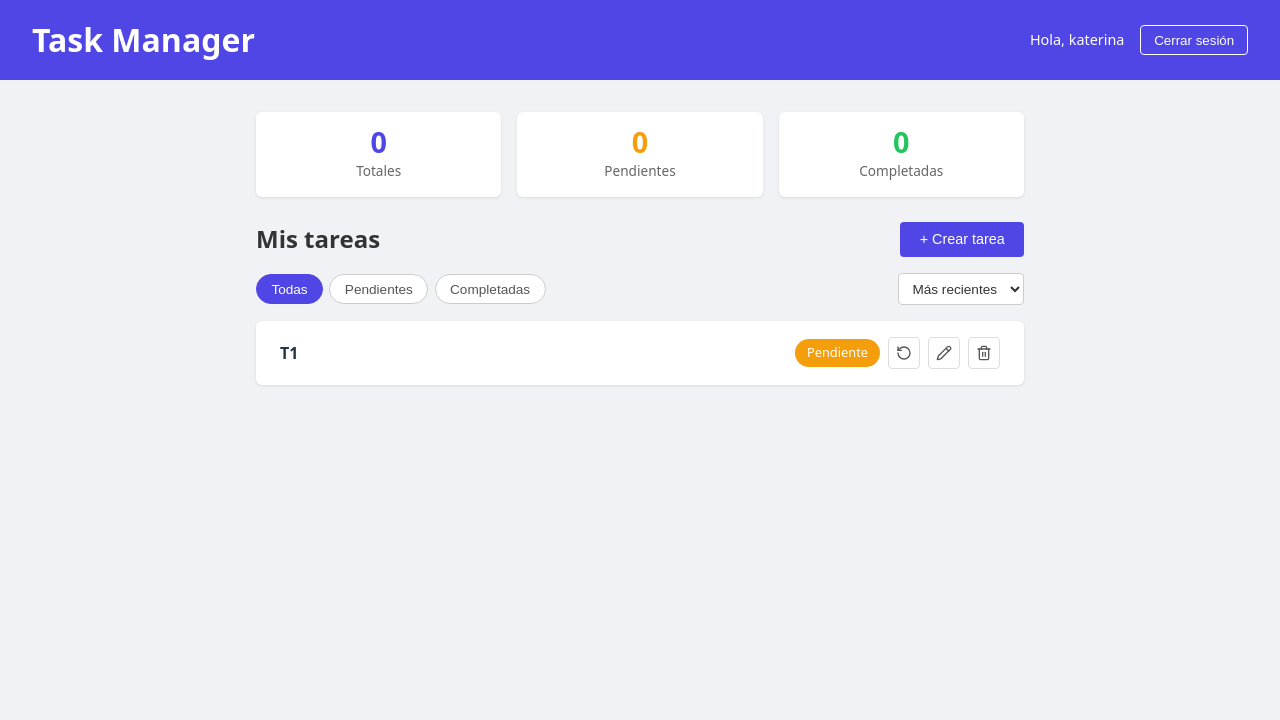
Test case: Dashboard › edita una tarea
Expected: the text "T1" is shown, [280, 342, 298, 364]
Click the button titled "Editar".
click(944, 353)  # box [928, 337, 960, 369]
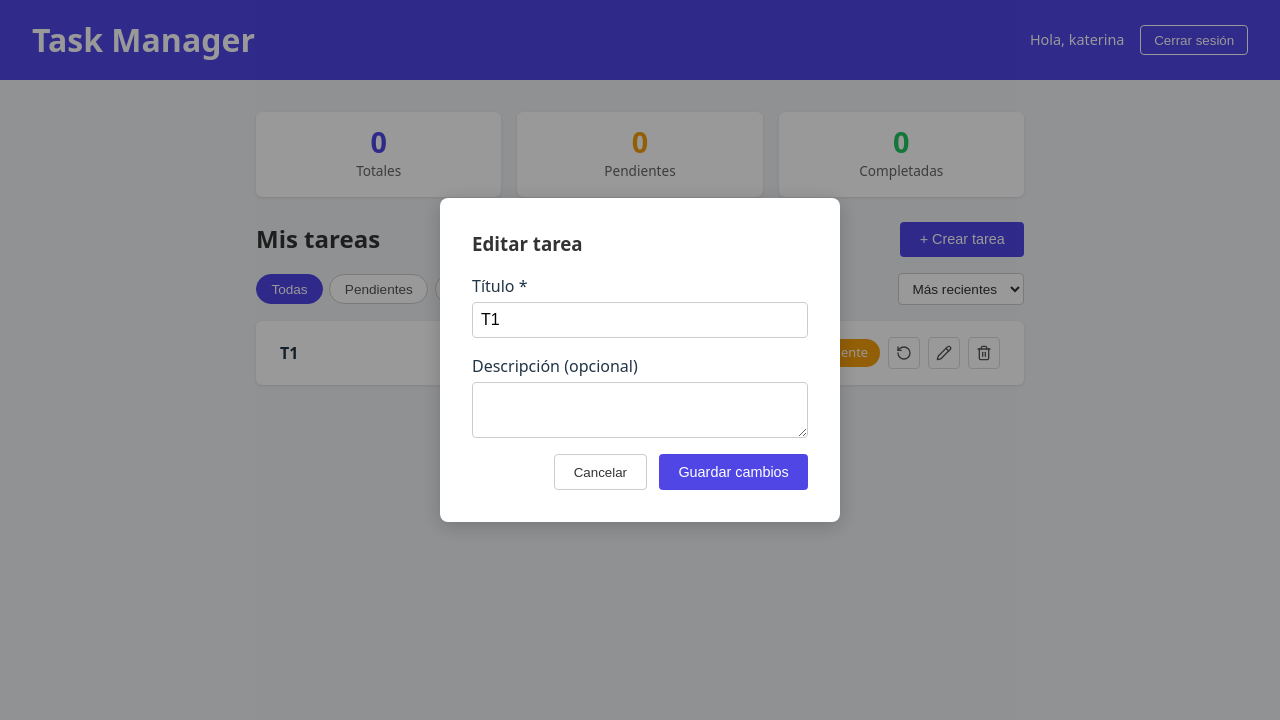
Now the heading "Editar tarea" is shown, box [472, 231, 583, 256]
Replace the text in the field with placeholder "Mínimo 3 caracteres" with "T1 editada" at (640, 320), box [472, 302, 808, 338]
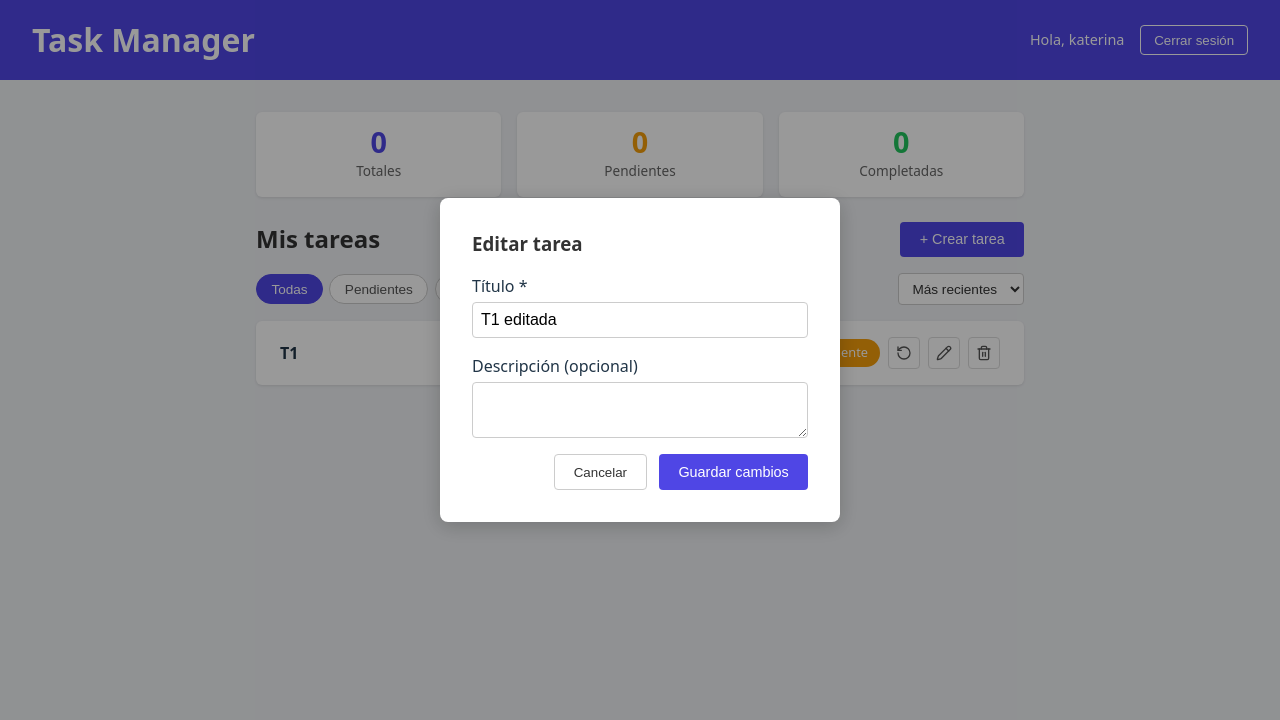
Click the button "Guardar cambios".
click(734, 472)  # box [659, 454, 808, 490]
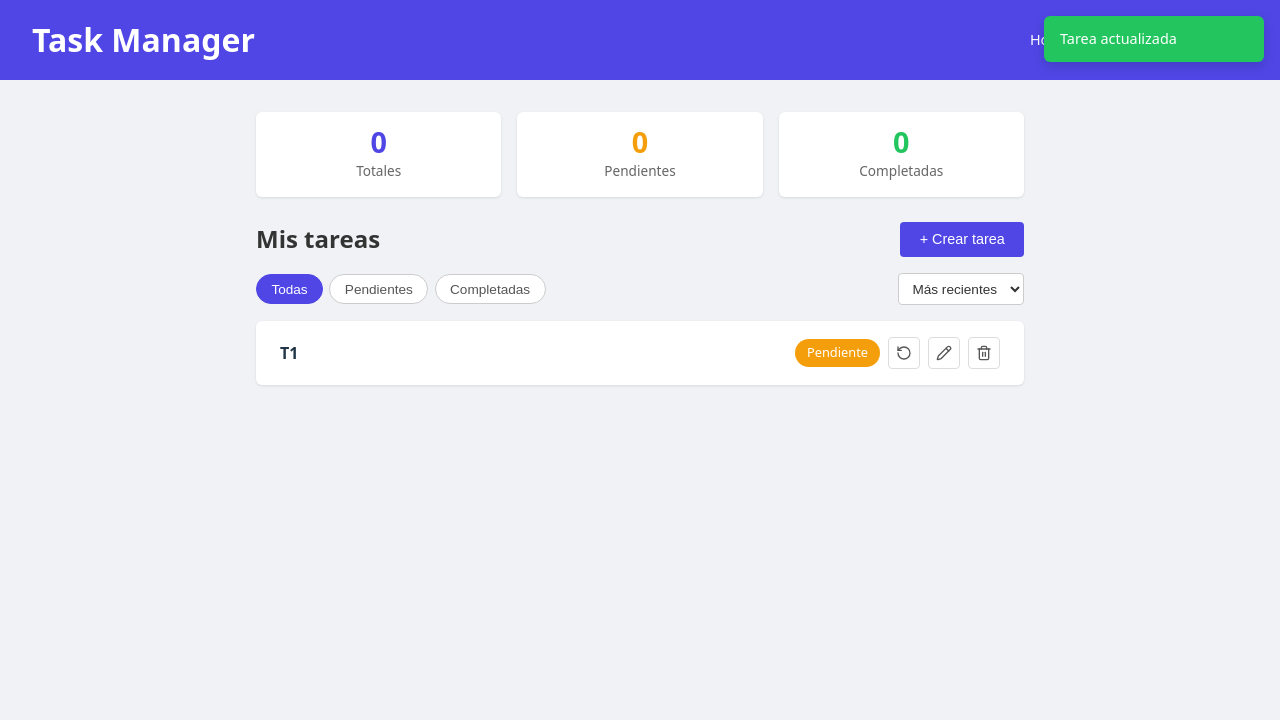
Now the text "Tarea actualizada" is shown, box [1044, 16, 1264, 62]
